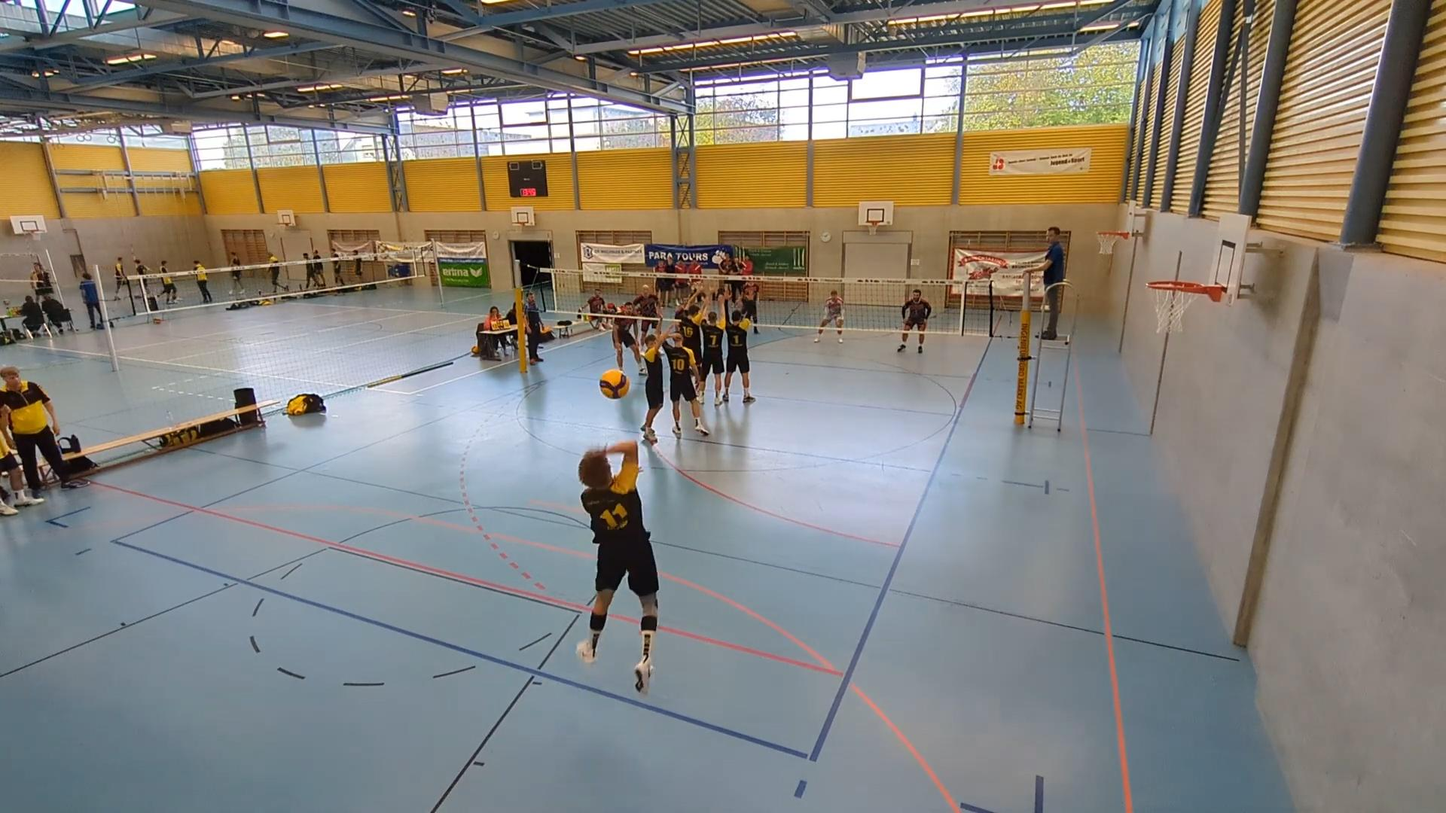Player: (662, 334, 709, 435), (641, 325, 676, 444), (721, 309, 755, 403), (699, 292, 727, 405), (612, 305, 647, 376), (897, 289, 931, 353), (675, 287, 703, 359), (813, 290, 844, 343), (631, 286, 658, 335), (740, 277, 759, 333)
Serve: (581, 434, 665, 683)
ball: (601, 371, 632, 396)
